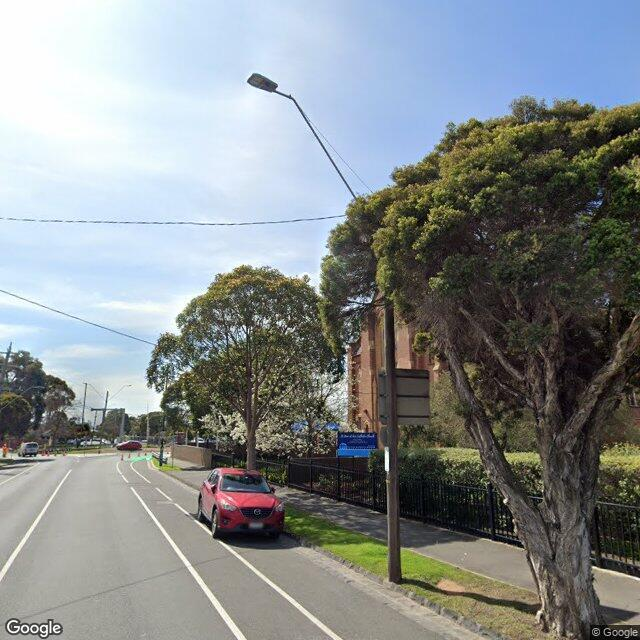HV-transmission: (0, 340, 20, 354)
streetlight: (247, 71, 356, 200), (0, 386, 45, 412), (84, 382, 106, 401), (108, 385, 132, 401)
timber-pole: (385, 296, 401, 584), (0, 346, 12, 386), (100, 391, 109, 439)
